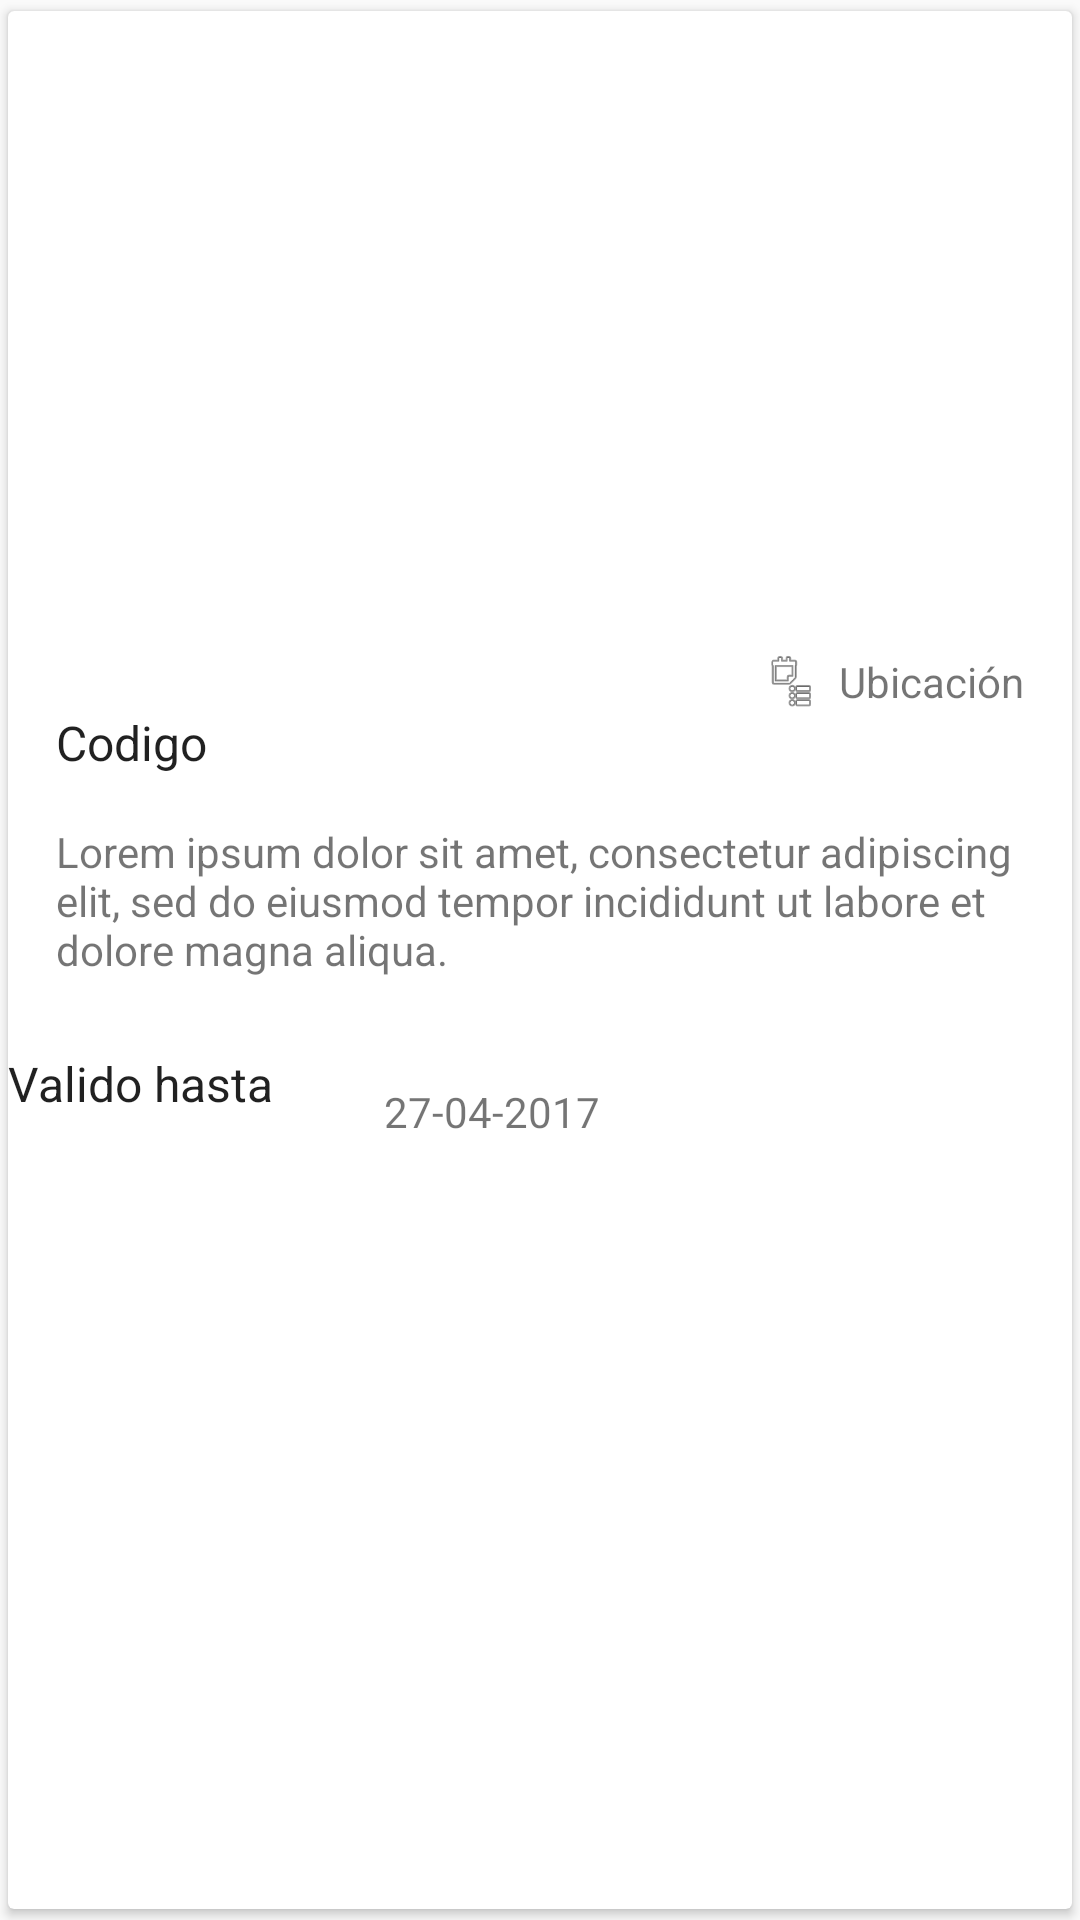

Icon bounding boxes for this 1080×1920 phone screenshot, format (x1, y1, x2, y2):
agenda: (771, 656, 811, 707)
